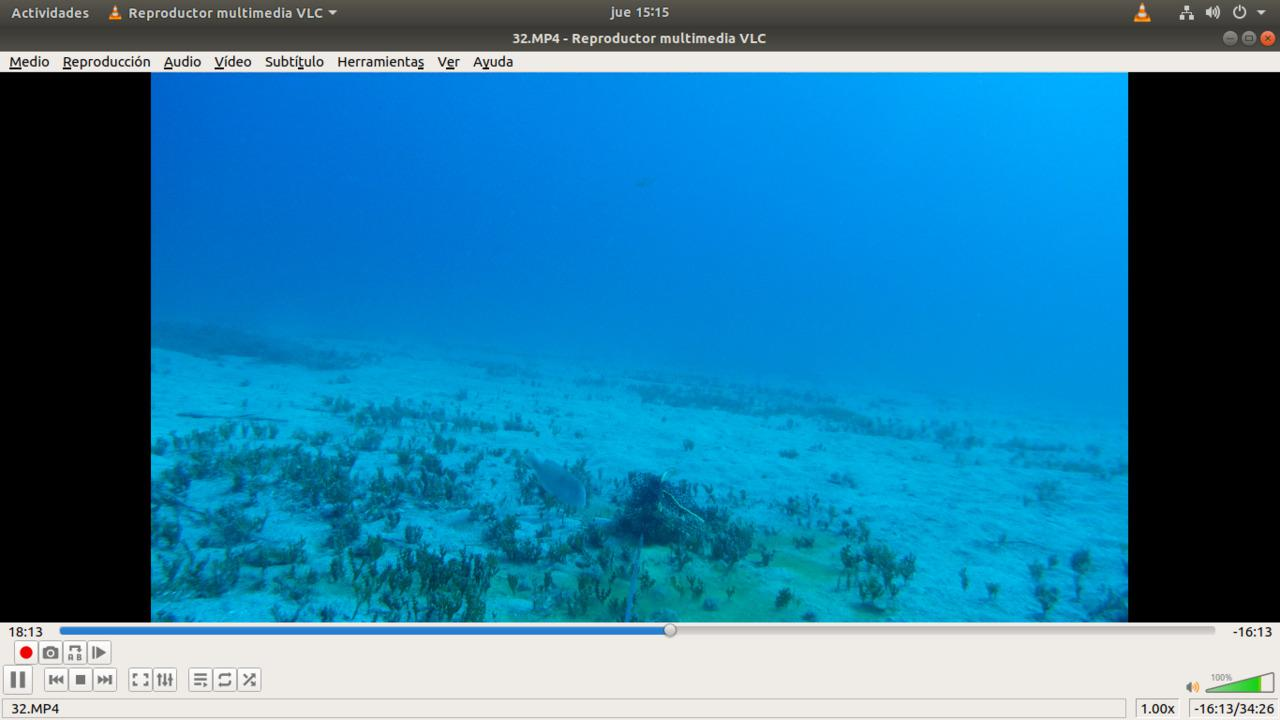raor: (509, 447, 593, 511)
